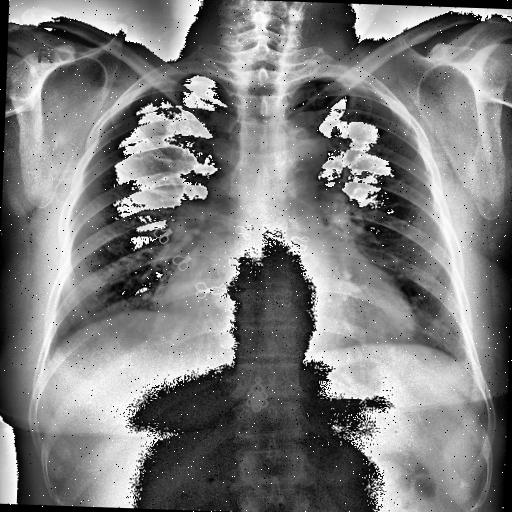3- Cardiomegaly: (164, 259, 418, 343), (166, 258, 413, 342), (174, 275, 414, 344)
